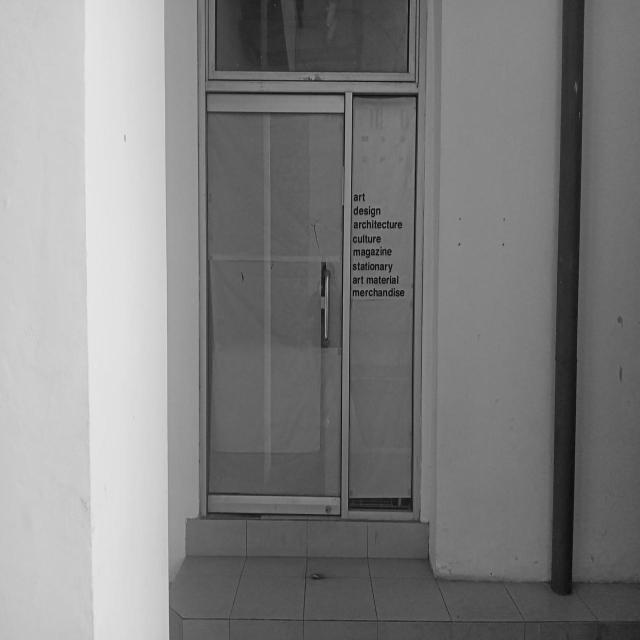door: (205, 88, 346, 518)
